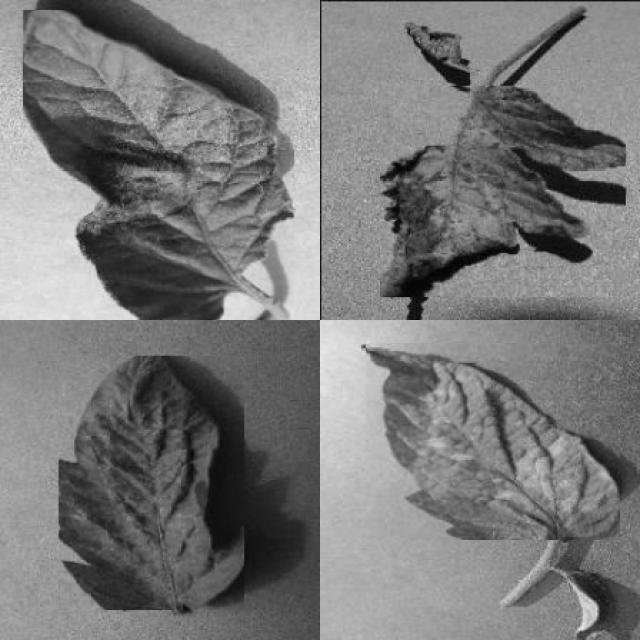Late Blight: (23, 10, 294, 320)
Leaf Mold: (366, 344, 620, 540)
Septoria: (380, 85, 626, 298)
Spider Mites: (59, 356, 244, 611)
